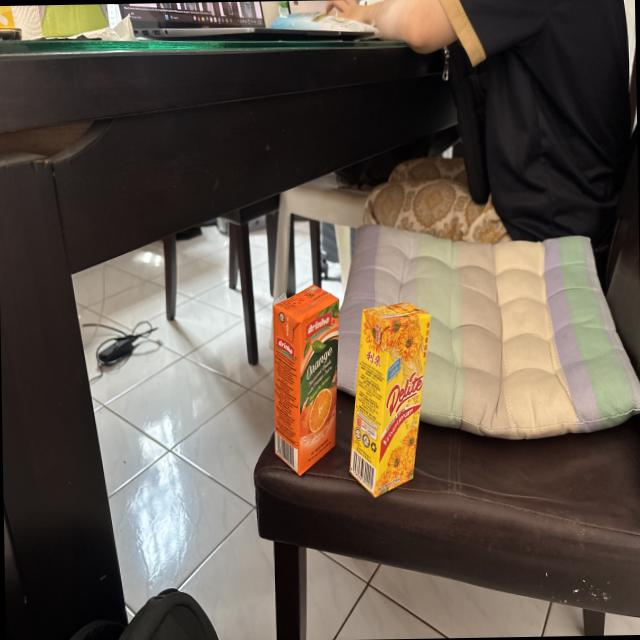drink_carton: (342, 292, 441, 502), (264, 278, 344, 479)
